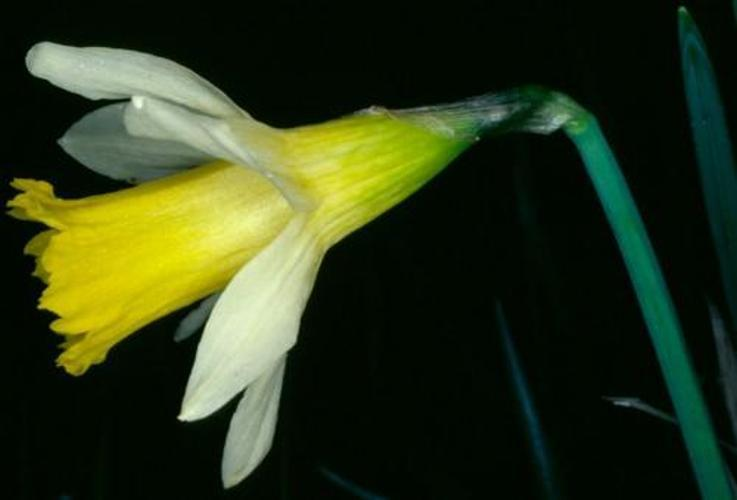flower1: (11, 40, 467, 484)
